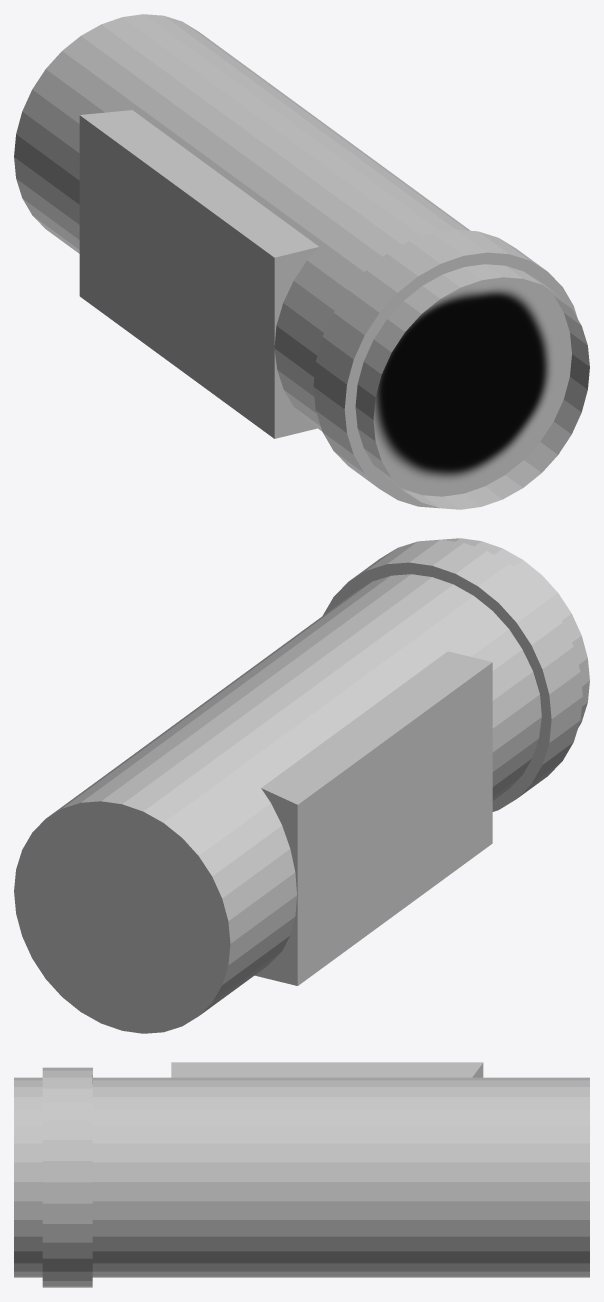
File: gun.glb
3 renders of one model, top to bottom at view 1: azimuth 30°, elevation 25°; view 2: azimuth 150°, elevation 25°; view 3: azimuth 270°, elevation 25°, orthographic. The views are drawn at different scales.
Visible parts, largest first — view 1: Cylinder, Cylinder.001, Cube, Cylinder.003; view 2: Cylinder, Cube, Cylinder.001, Cylinder.003; view 3: Cylinder, Cylinder.001, Cylinder.003, Cube.
Part boxes in pixels (x1,y1,x2,y2): Cylinder: [14, 14, 469, 431]; Cylinder.001: [313, 229, 577, 508]; Cube: [79, 110, 318, 438]; Cylinder.003: [355, 264, 589, 509]; Cylinder: [14, 574, 541, 1033]; Cube: [255, 651, 492, 985]; Cylinder.001: [322, 539, 582, 811]; Cylinder.003: [442, 538, 589, 727]; Cylinder: [92, 1077, 589, 1277]; Cylinder.001: [42, 1067, 92, 1287]; Cylinder.003: [14, 1077, 42, 1277]; Cube: [171, 1062, 483, 1077].
Size of the model in its own units: 2.2 by 2.2 by 5.75.
4 materials, 4 textured.
